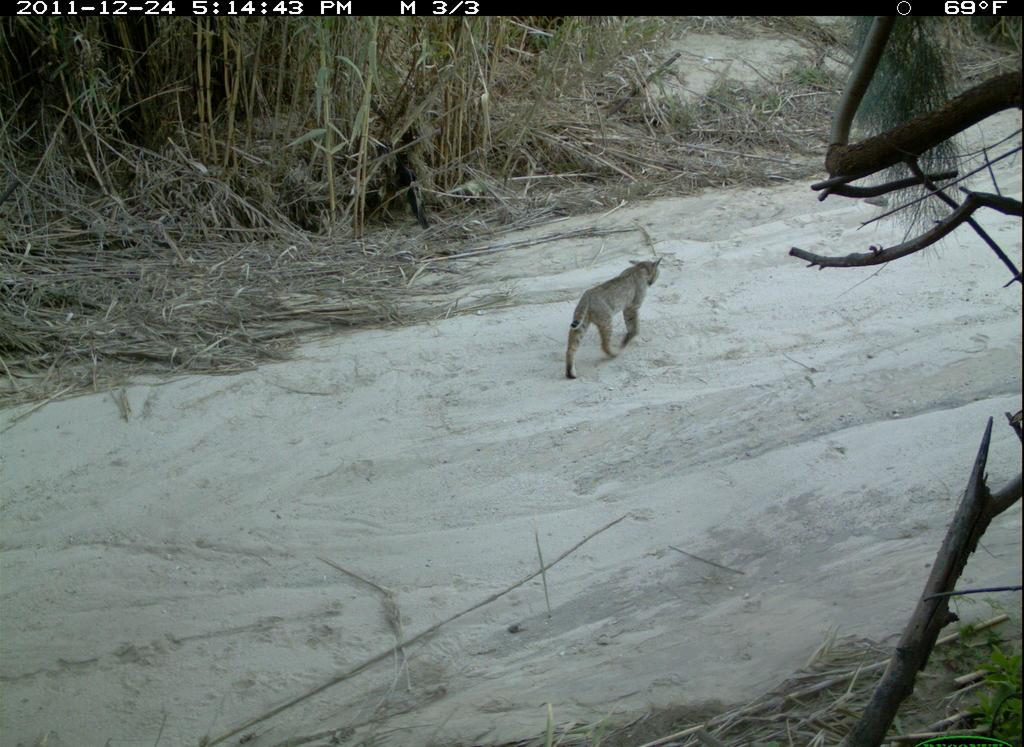bobcat: (555, 250, 670, 391)
